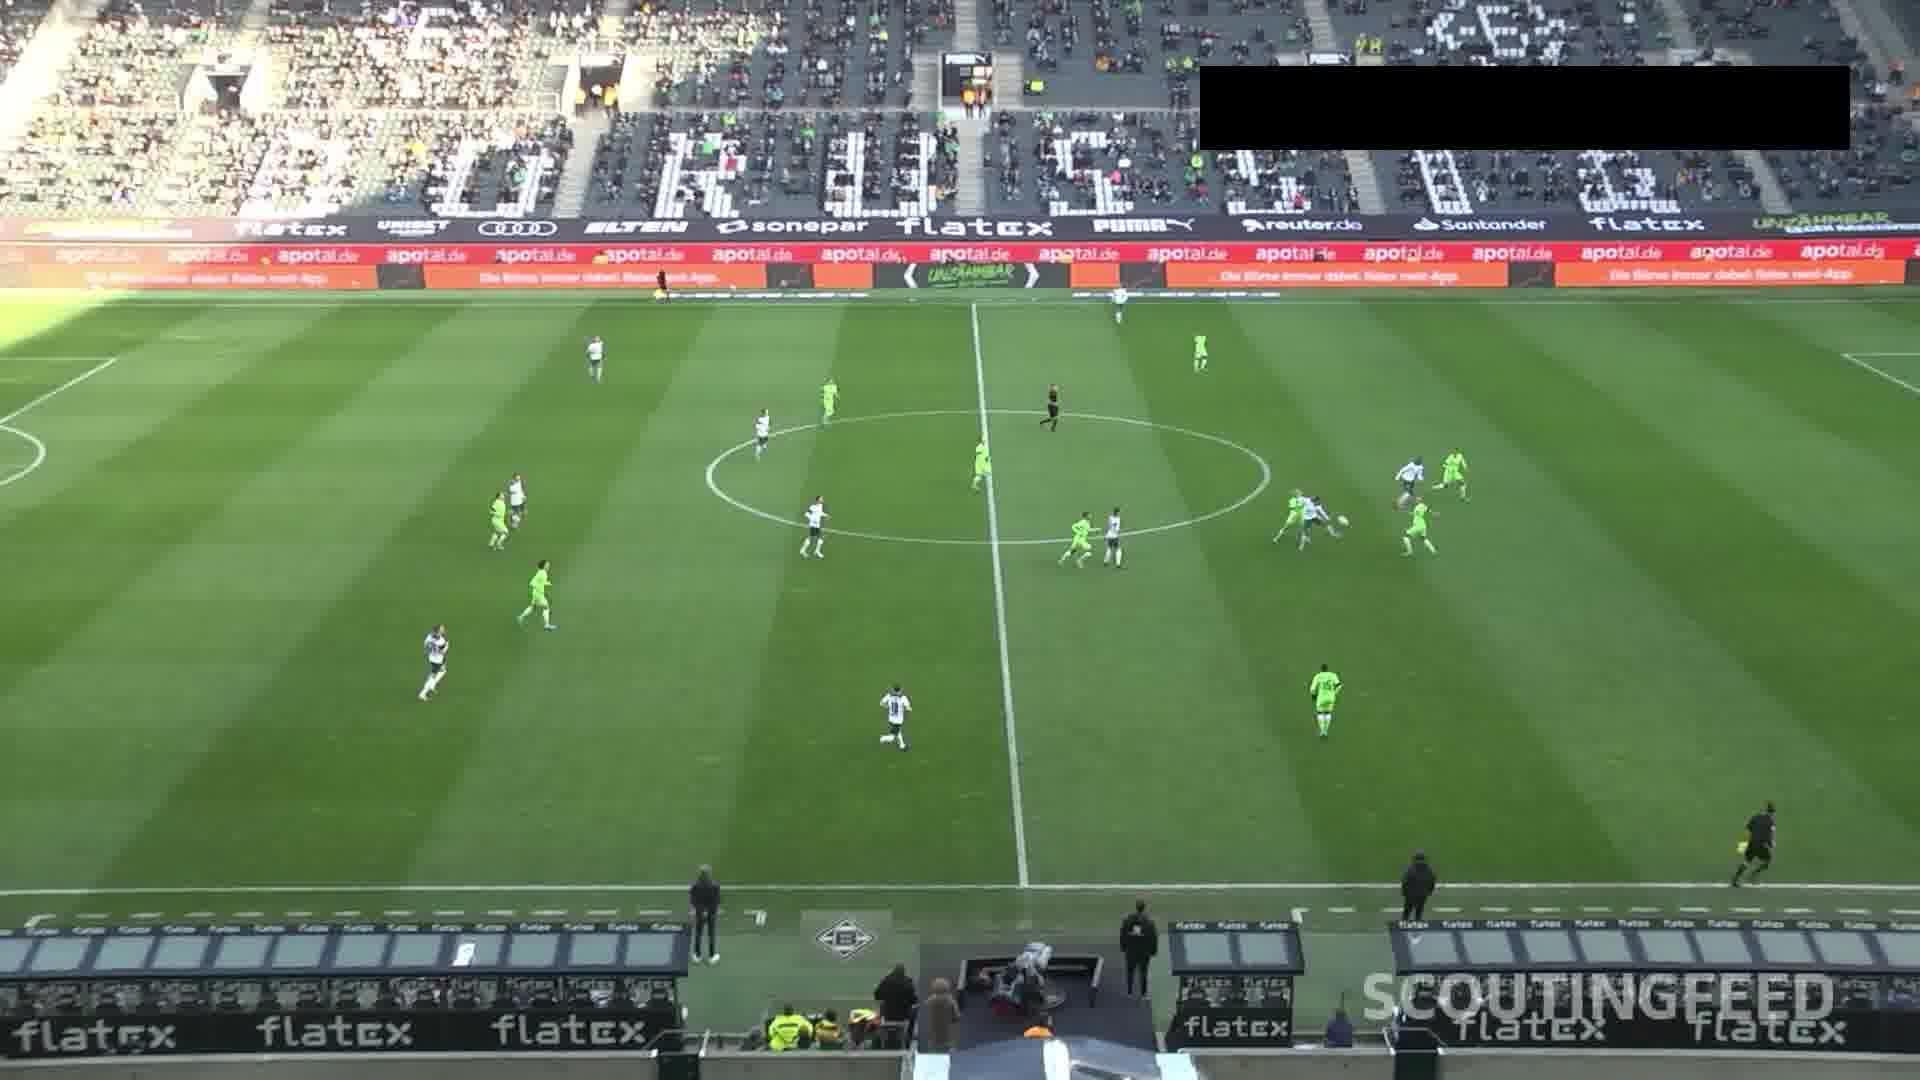football: (1336, 513, 1352, 529)
